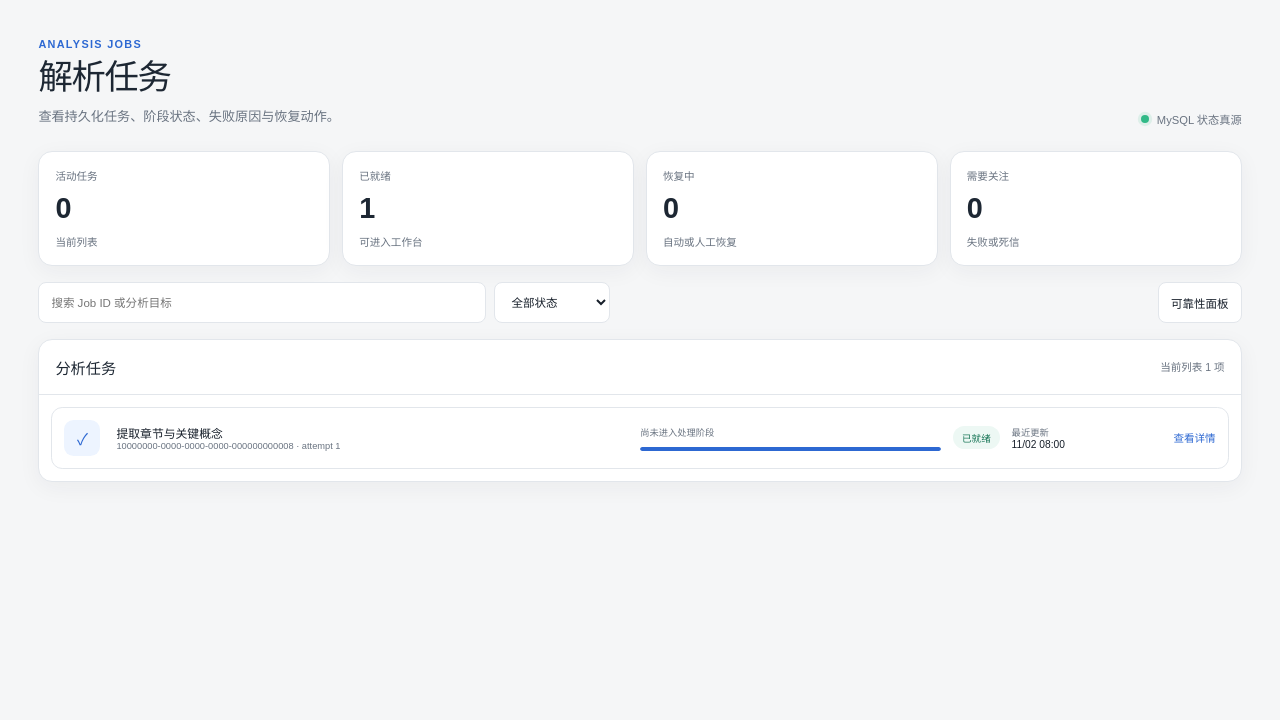
Test: AnalysisJobsPage › restores the persisted media facts when an existing job is opened
The width and height of the screenshot is (1280, 720).
Click the button with test id "open-job": (640, 438) [51,407,1229,469]
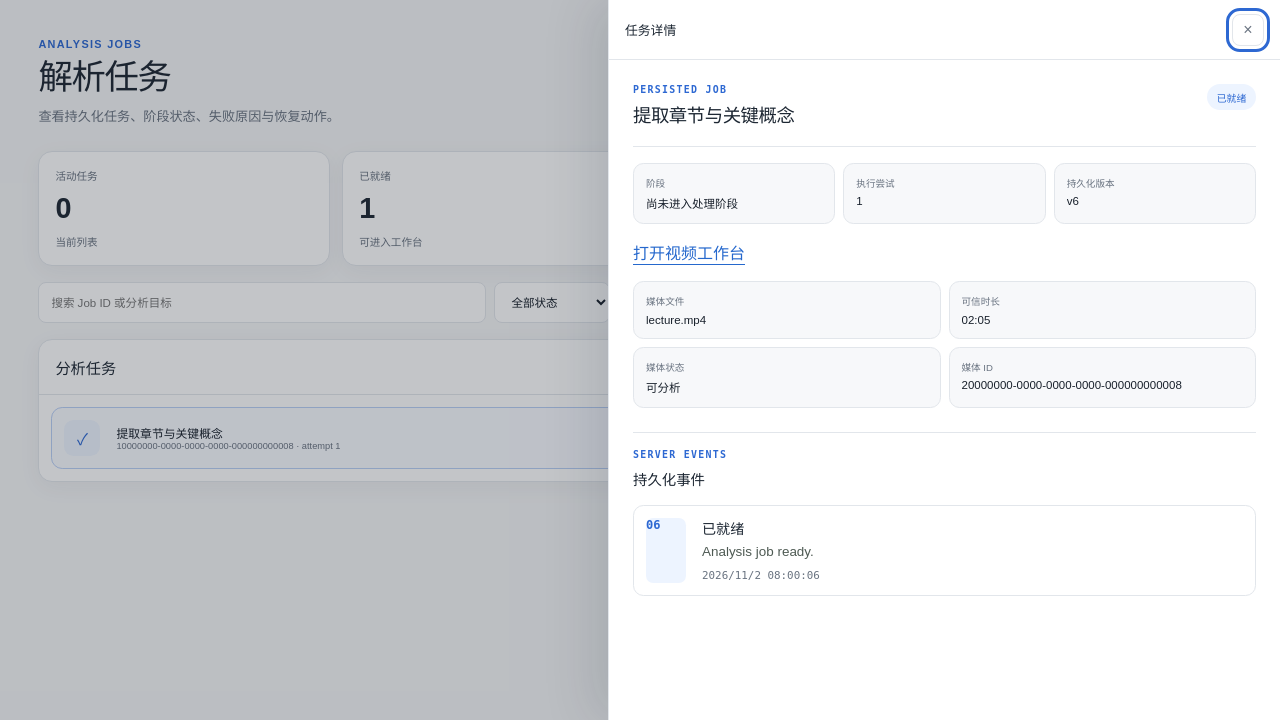
Now the element with test id "job-media-facts" shows "lecture.mp4", box [646,314,706,326]
Now the element with test id "job-media-facts" shows "02:05", box [962,314,990,326]
Now the element with test id "job-media-facts" shows "可分析", box [646,382,680,394]
